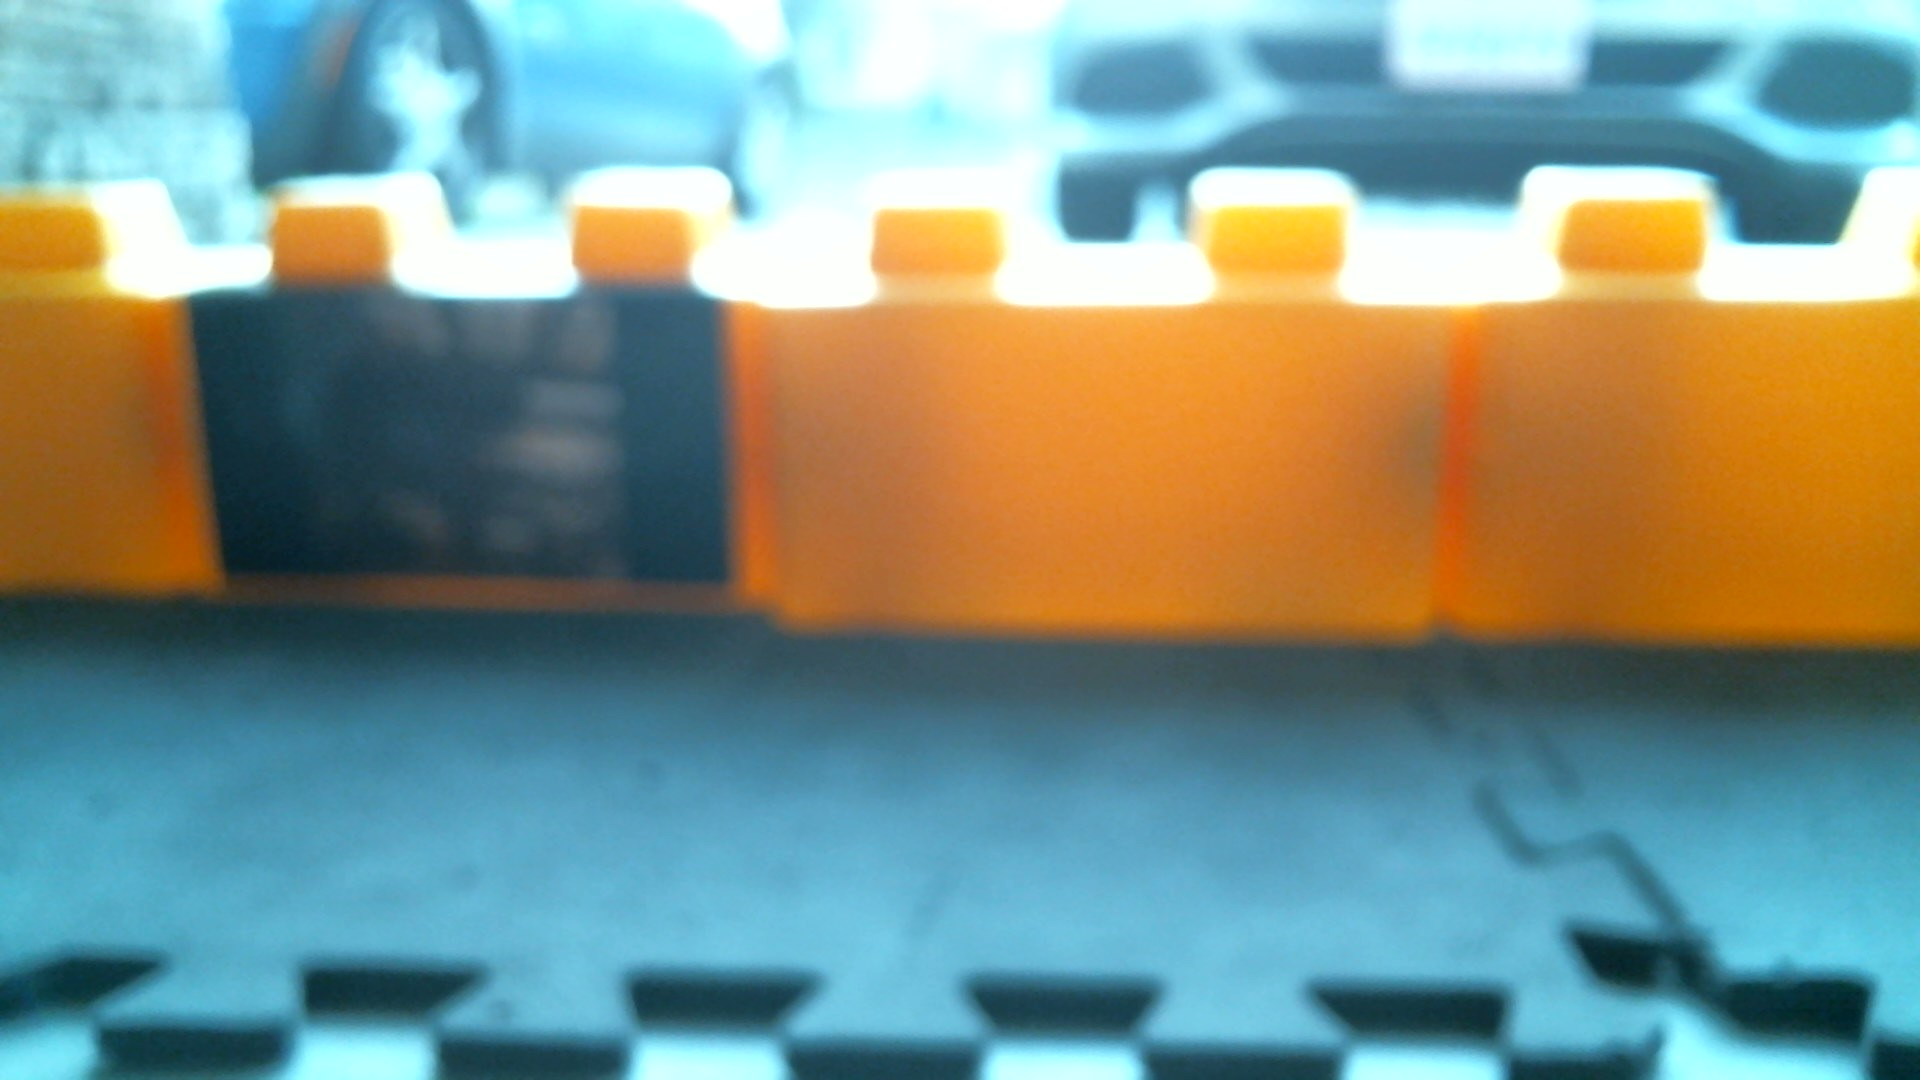left: (158, 136, 1920, 644)
